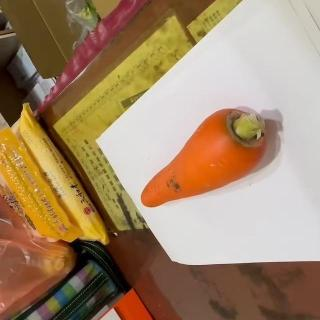carrot: (140, 107, 268, 209)
